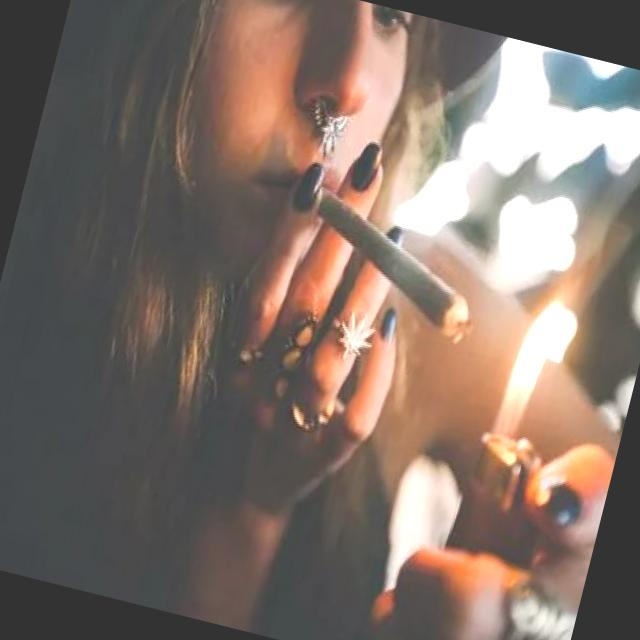smoke: (286, 180, 498, 352)
